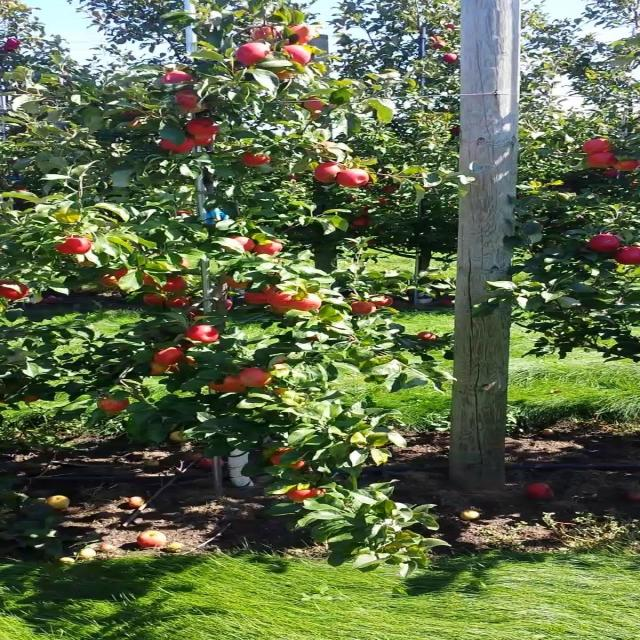apple: (236, 42, 271, 66), (144, 274, 187, 292), (176, 88, 207, 112), (184, 118, 220, 138), (313, 161, 344, 183), (244, 285, 276, 305), (56, 236, 91, 254), (238, 368, 271, 387), (184, 325, 220, 342), (158, 138, 196, 154), (209, 375, 244, 392), (336, 169, 369, 187), (587, 234, 620, 252), (300, 96, 327, 118), (153, 346, 184, 365), (289, 294, 322, 311), (100, 268, 129, 287), (284, 44, 311, 64), (289, 24, 316, 44), (253, 239, 284, 256), (613, 246, 640, 265), (587, 151, 616, 168), (287, 489, 324, 502), (98, 398, 129, 413), (582, 138, 611, 154), (116, 110, 144, 126), (242, 151, 271, 166), (162, 70, 193, 84), (229, 235, 256, 251), (251, 25, 278, 40), (162, 276, 187, 292), (224, 275, 251, 289), (269, 448, 291, 465), (149, 361, 173, 376), (351, 301, 376, 315), (269, 292, 291, 307), (613, 159, 640, 171), (164, 296, 191, 308), (142, 292, 164, 306), (369, 295, 393, 306), (351, 216, 371, 229), (187, 305, 204, 320), (2, 38, 20, 51), (271, 305, 293, 315), (193, 136, 213, 146), (418, 331, 438, 341), (276, 70, 296, 80), (289, 459, 307, 469), (602, 169, 620, 178), (180, 340, 196, 350), (22, 395, 40, 403), (182, 356, 196, 365), (178, 258, 189, 269), (224, 299, 233, 311), (307, 335, 318, 341)
